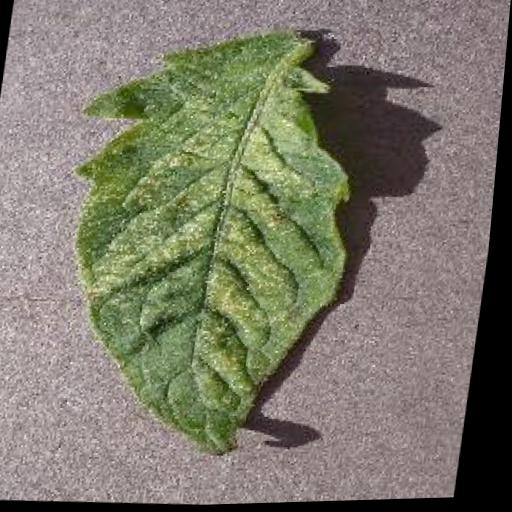Spider Mites: (42, 19, 381, 466)
